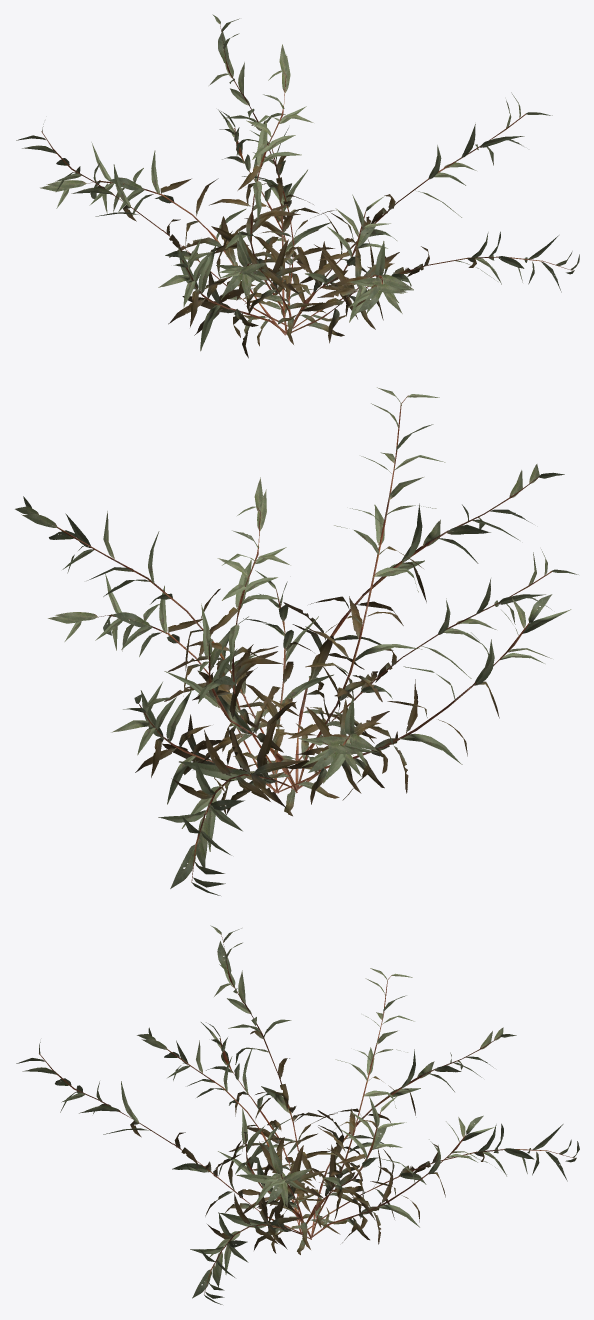
The model's file is veg-shrub-b-0ba489ded744.glb.
3 renders of one model, top to bottom at view 1: azimuth 30°, elevation 25°; view 2: azimuth 150°, elevation 25°; view 3: azimuth 270°, elevation 25°, orthographic. The views are drawn at different scales.
Visible parts, largest first — view 1: veg-shrub-b; view 2: veg-shrub-b; view 3: veg-shrub-b.
Boxes of the visible parts, bbox=[...] form: veg-shrub-b: bbox=[16, 14, 579, 358]; veg-shrub-b: bbox=[15, 387, 578, 895]; veg-shrub-b: bbox=[16, 925, 579, 1304].
Bounding box in the file's own units: 1.98 × 1.45 × 2.54.
Materials: 1 (1 with a texture image).
